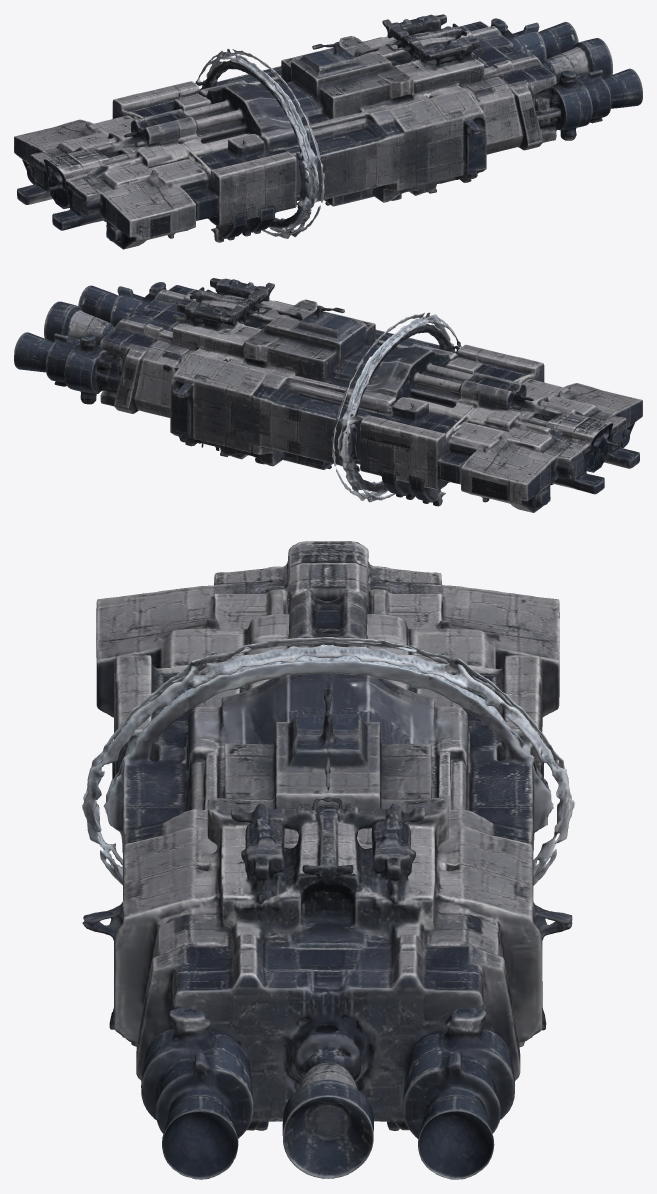
Rendered from guardian.glb.
The picture shows the model from 3 angles, top to bottom: view 1: azimuth 30°, elevation 25°; view 2: azimuth 150°, elevation 25°; view 3: azimuth 270°, elevation 25°; orthographic projection. The views are drawn at different scales.
Bounding box in the file's own units: 1.9 × 0.5332 × 0.7186.
1 material, 1 textured.
